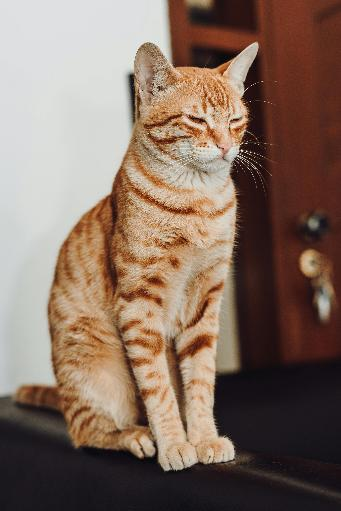cat_sitting: (15, 43, 258, 472)
